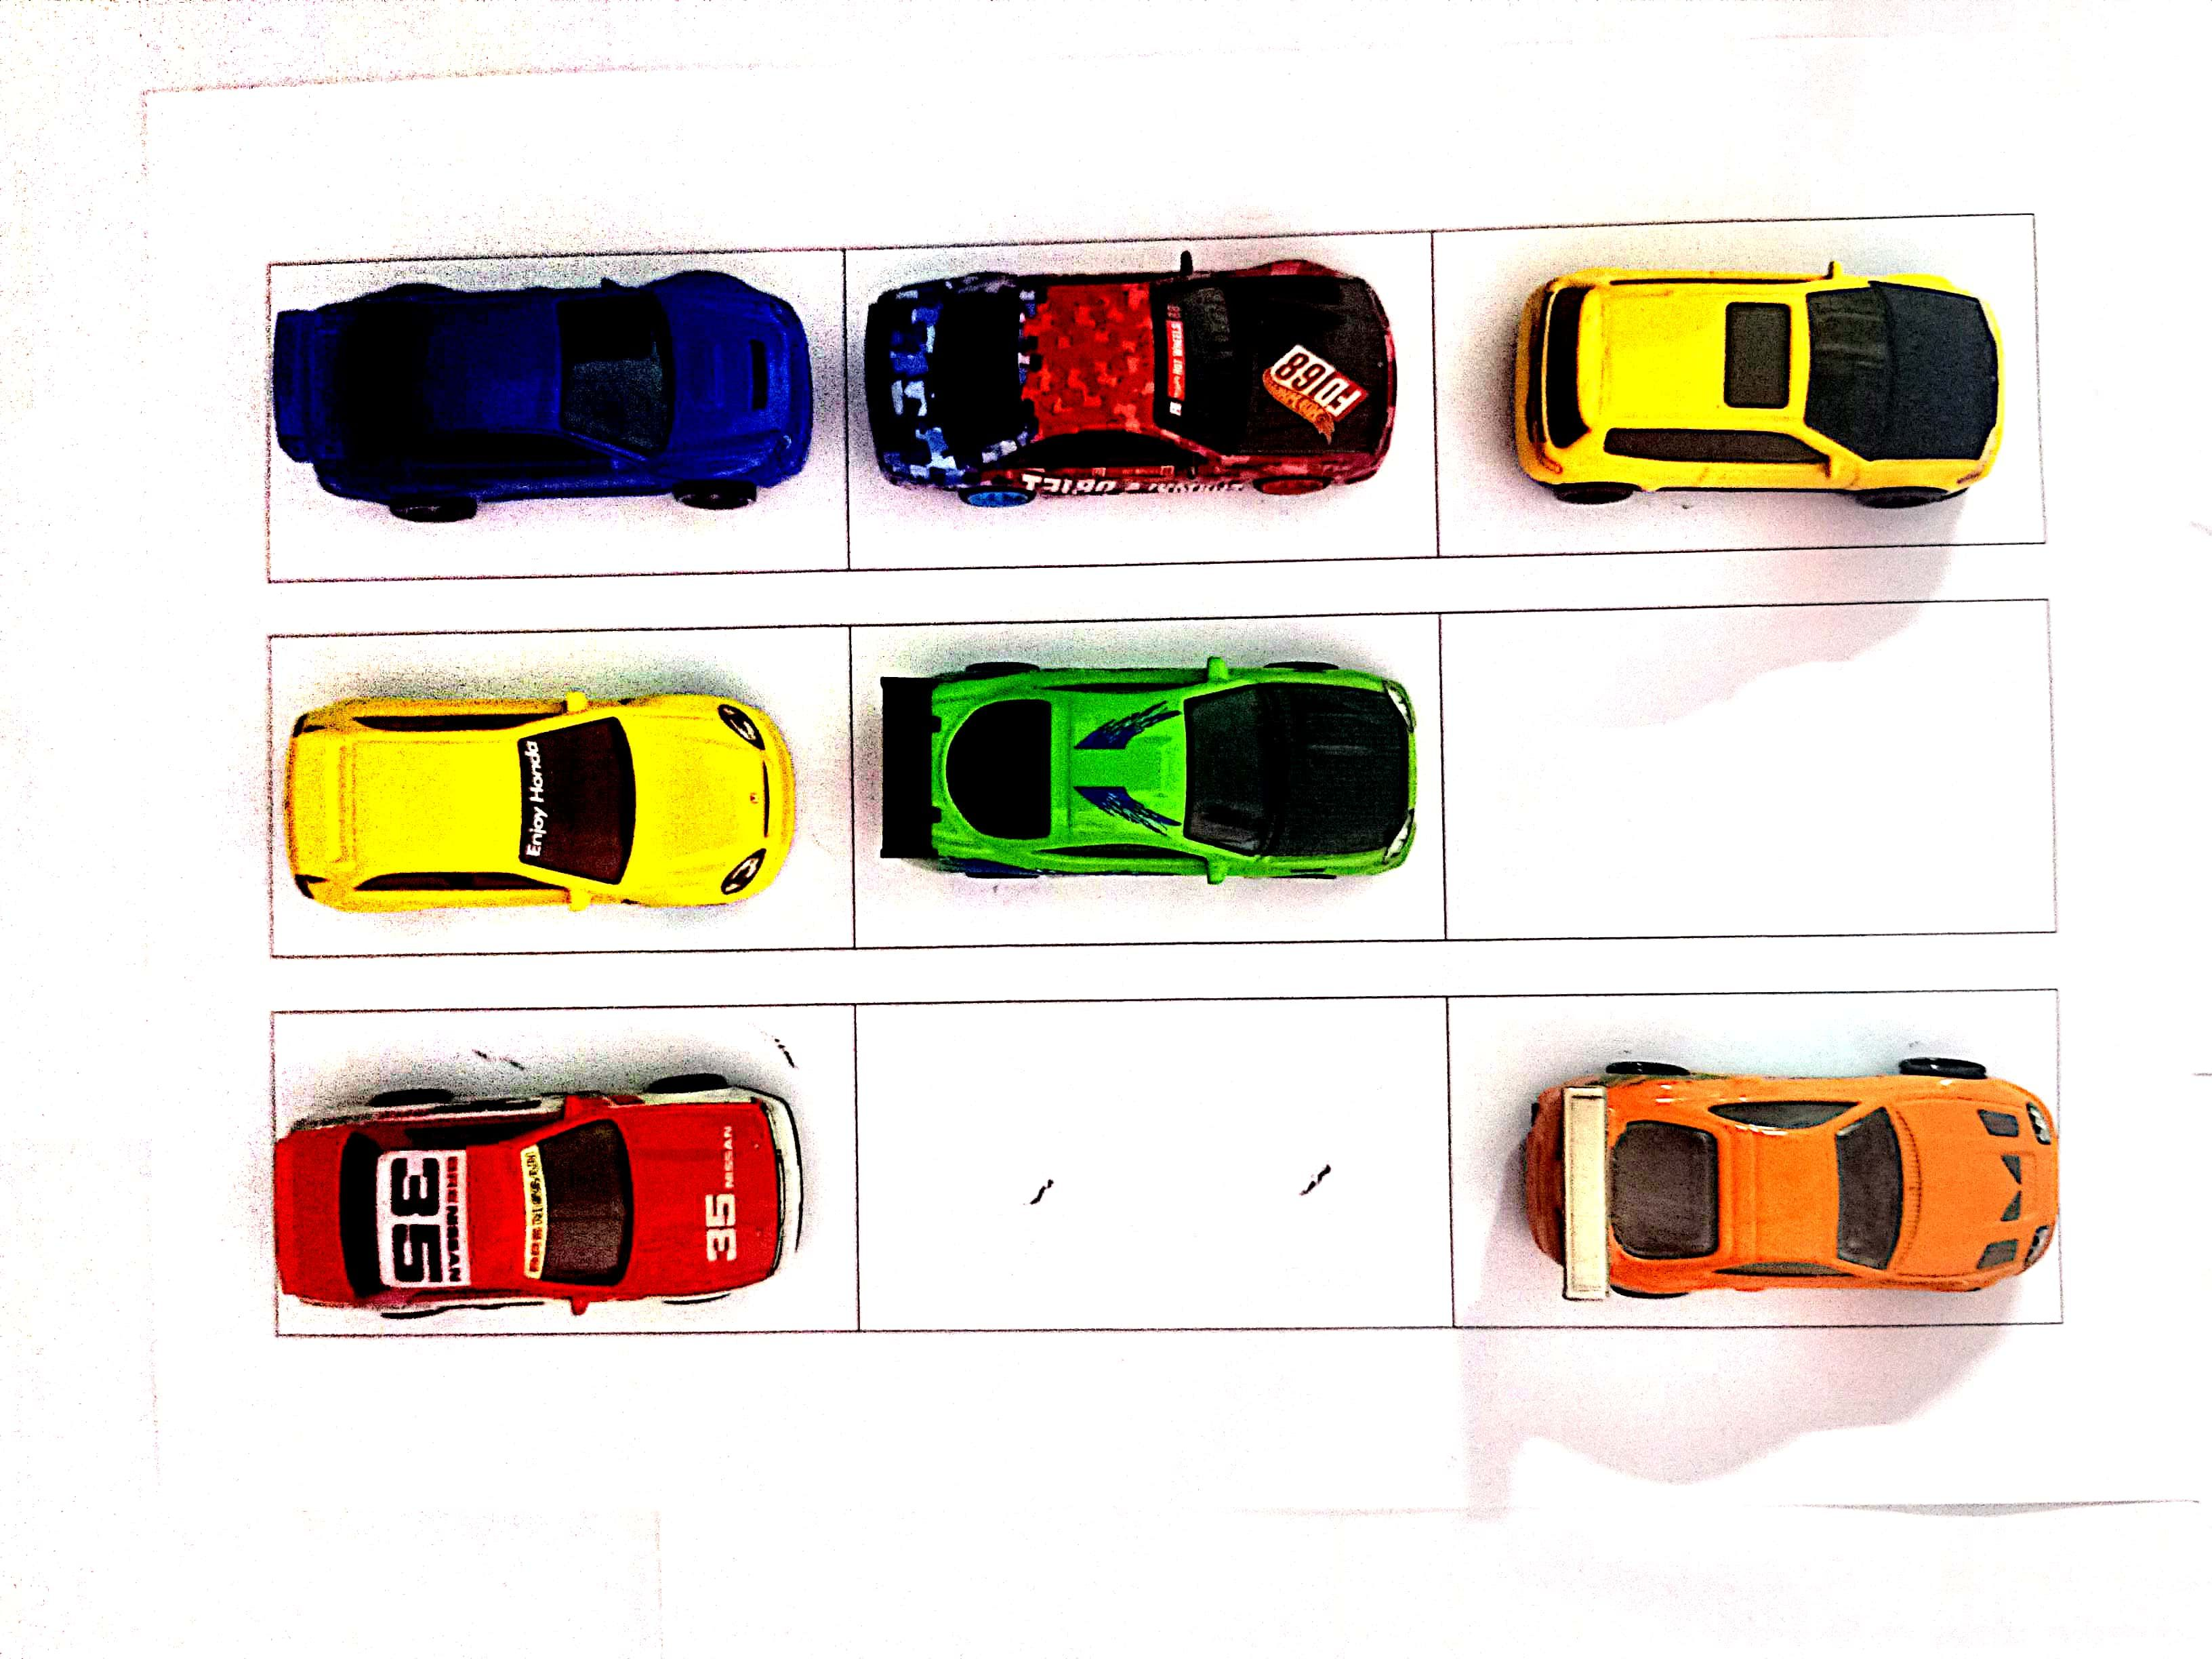Busy: (1453, 986, 2066, 1326), (1432, 220, 2038, 551), (846, 235, 1432, 572), (852, 613, 1442, 943), (273, 1009, 853, 1337), (272, 631, 852, 955), (263, 253, 843, 577)
Free: (1439, 601, 2055, 931), (853, 995, 1447, 1331)
